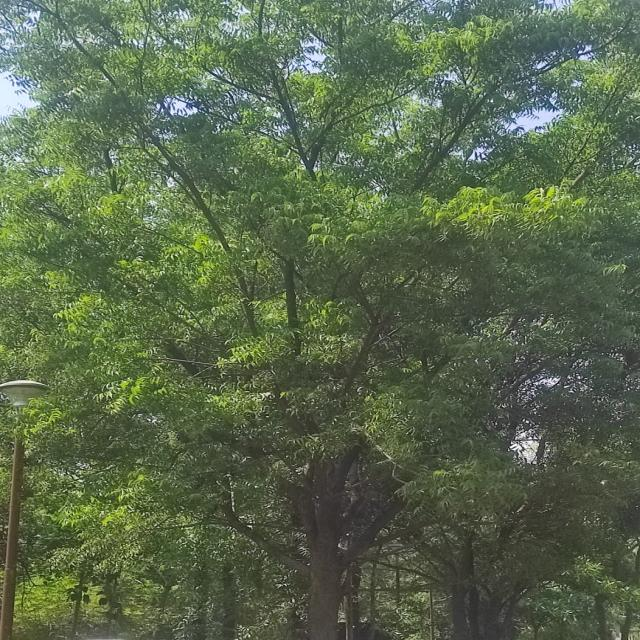Neem Tree: (42, 26, 541, 589)
